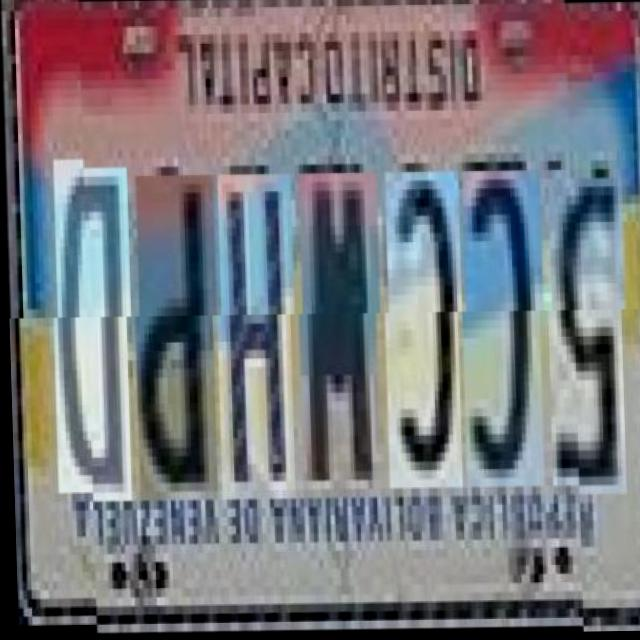5: (542, 171, 623, 489)
c: (457, 172, 542, 490), (379, 173, 460, 491)
d: (48, 168, 129, 503)
h: (212, 175, 293, 500)
p: (130, 176, 215, 501)
w: (293, 174, 379, 499)
